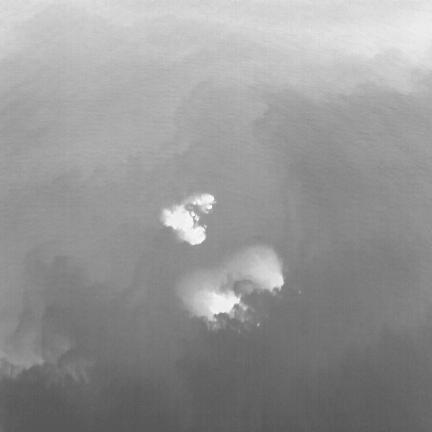flukeprints: (162, 205, 205, 245), (203, 290, 239, 316), (188, 193, 215, 213)
